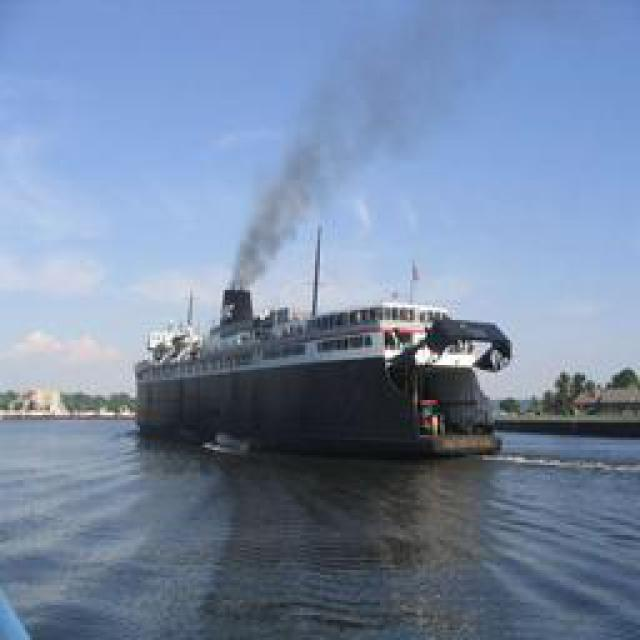Ship: (135, 260, 508, 458)
